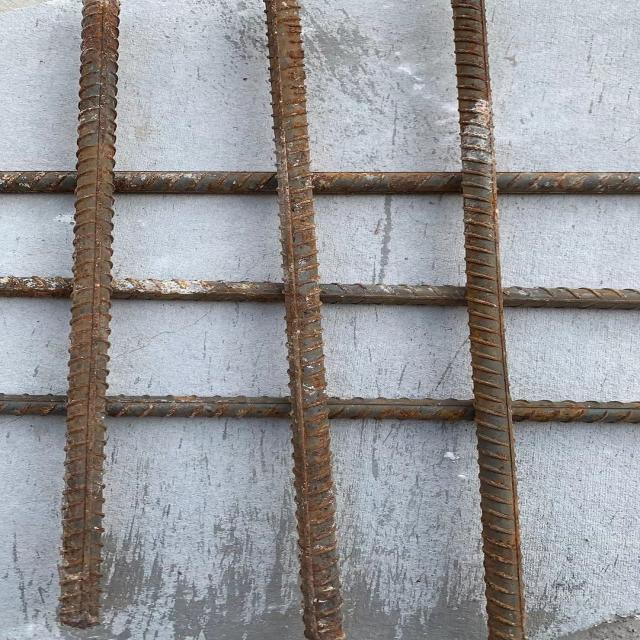ribbed bar: (262, 0, 350, 639), (450, 0, 532, 639), (51, 0, 122, 627), (0, 275, 639, 311), (0, 393, 639, 424), (0, 169, 639, 196)
